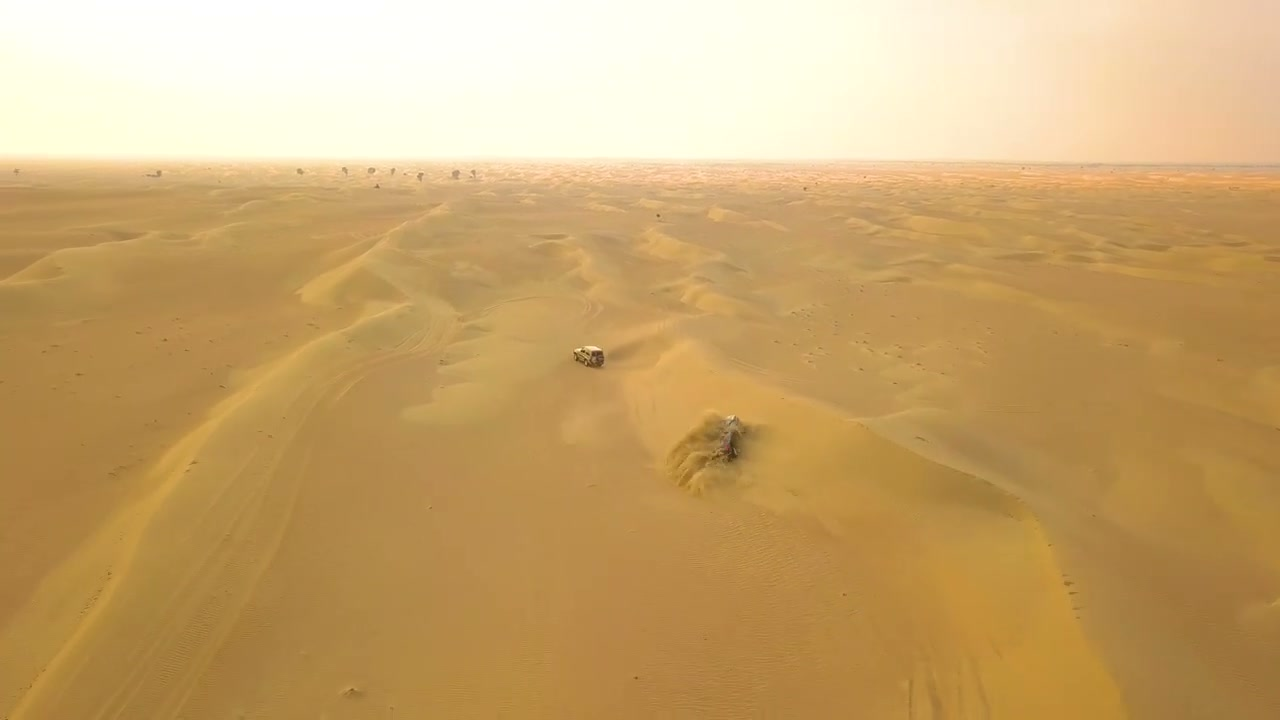vehicle_track: (78, 320, 444, 719)
